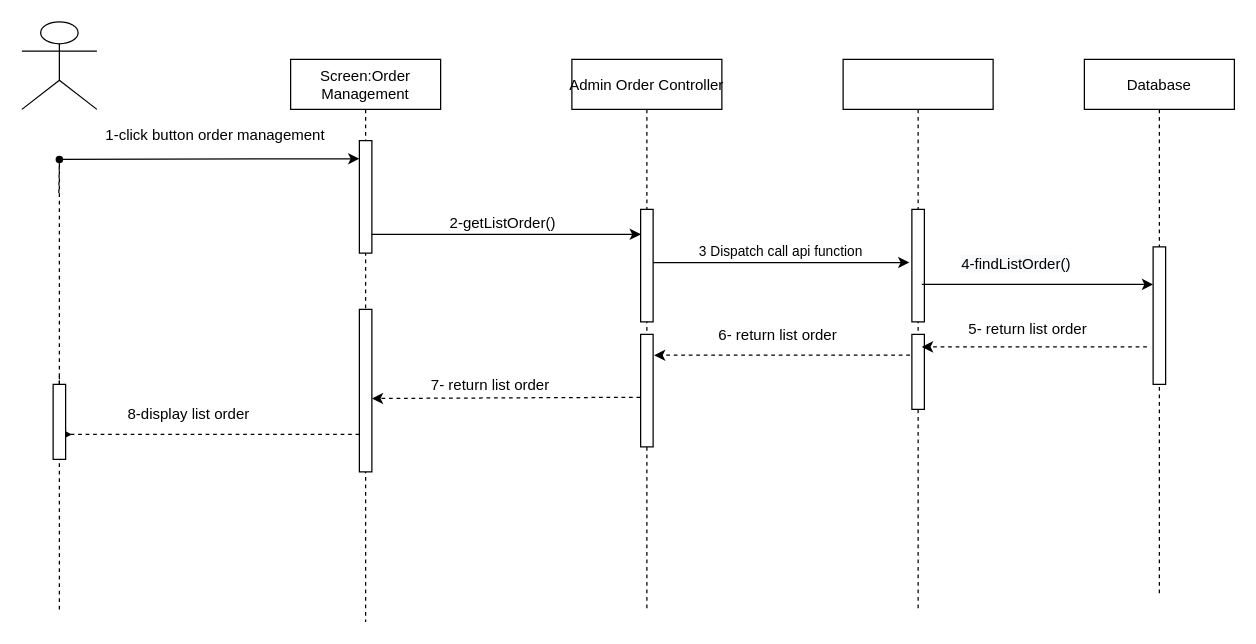
Some shapes in this 1256 by 644 pixel diagram are drawn without their labels. Here are the shapes that lost their labels. From the top down, the centre of each, then its label:
At (x=59, y=65): "Admin".
At (x=917, y=333): "Order Service".
